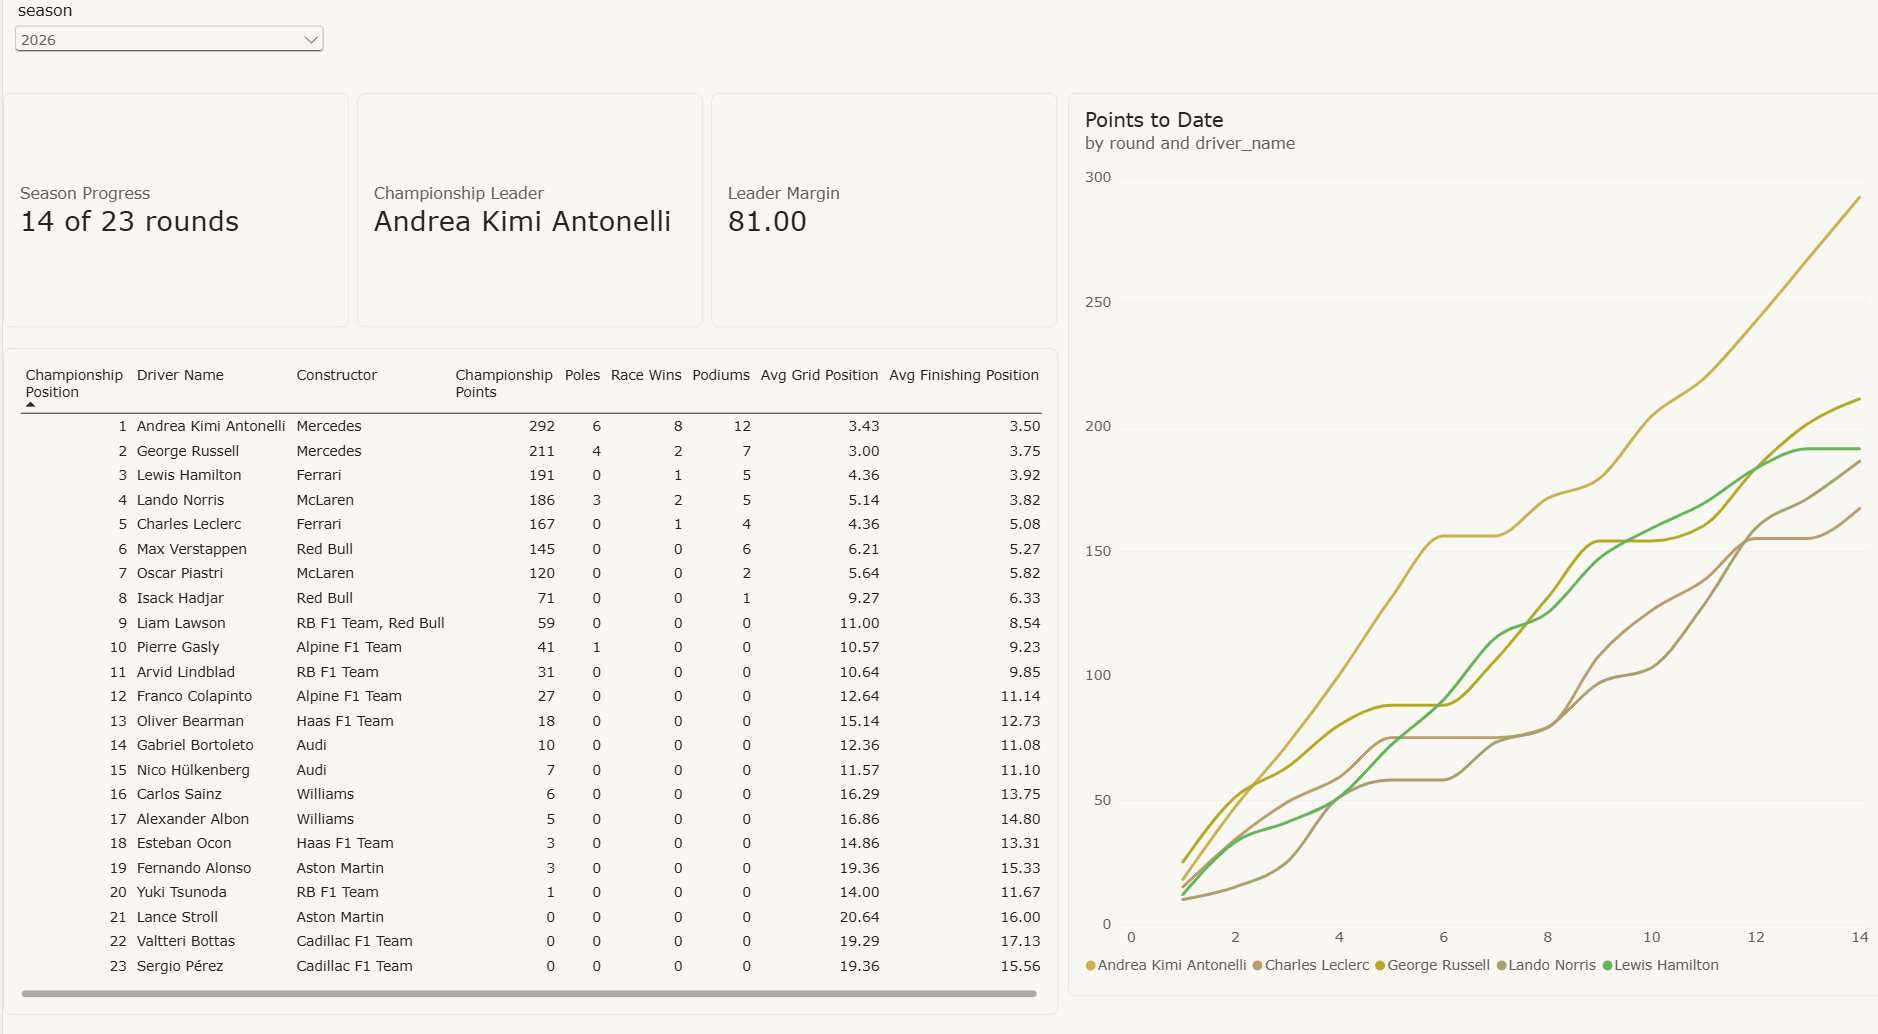

This screenshot's page, from the dashboard's own definition file:
{"tool":"powerbi","page":{"name":"Season Overview","canvas":[1920,1080],"ordinal":0},"visuals":[{"type":"slicer","fields":{"Values":["dim_season.season"]},"box":[6.9,0,324.9,73.6],"z":0},{"type":"cardVisual","fields":{"Data":["_Measures.Season Progress","_Measures.Championship Leader","_Measures.Leader Margin"]},"box":[0,94.8,1075.7,239.6],"z":1000},{"type":"tableEx","fields":{"Values":["Sum(fct_driver_standings.championship_position)","dim_driver.driver_name","fct_driver_standings.constructor_names","Sum(fct_driver_standings.championship_points)","Sum(fct_driver_standings.poles)","Sum(fct_driver_standings.race_wins)","Sum(fct_driver_standings.podiums)","Sum(fct_driver_standings.avg_grid_position)","Sum(fct_driver_standings.avg_finish_position)"]},"box":[0,354.8,1075.7,680.1],"z":2000},{"type":"lineChart","fields":{"Category":["dim_race.round"],"Series":["dim_driver.driver_name"],"Y":["_Measures.Points to Date"]},"box":[1085.9,94.8,834.1,920.7],"z":3000}]}

Visuals, with their boxes in screenshot pixels (x1, y1, x2, y2), scaled from the page's 1920x1080 canvas onto the 1878x1034 screenshot:
slicer - dim_season.season: BBox(7, 0, 325, 70)
cardVisual - _Measures.Season Progress x _Measures.Championship Leader: BBox(0, 91, 1052, 320)
tableEx - Sum(fct_driver_standings.championship_position) x dim_driver.driver_name: BBox(0, 340, 1052, 991)
lineChart - dim_race.round x dim_driver.driver_name: BBox(1062, 91, 1877, 972)
